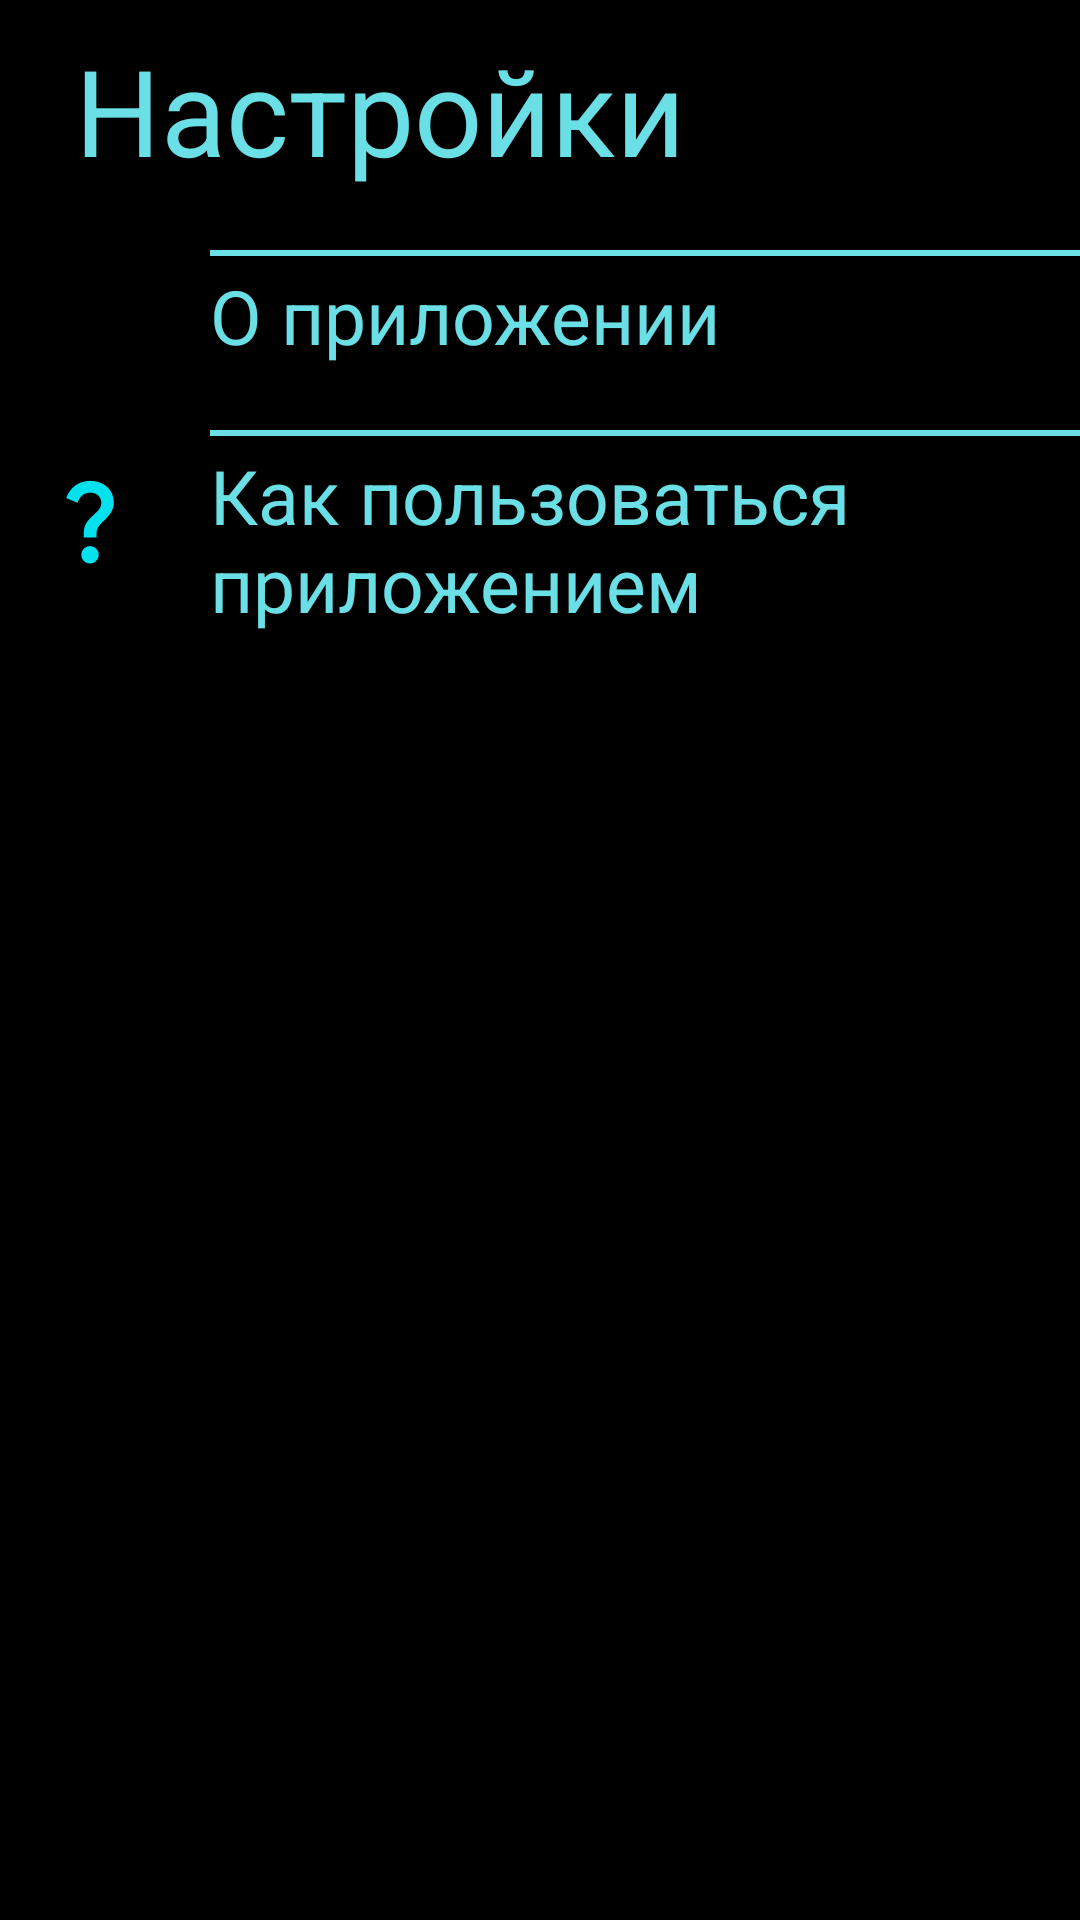

Point at icon controls on the screen. Image size 1080 x 1920, points as (x=x, y=y).
how to play: (x=90, y=522)
